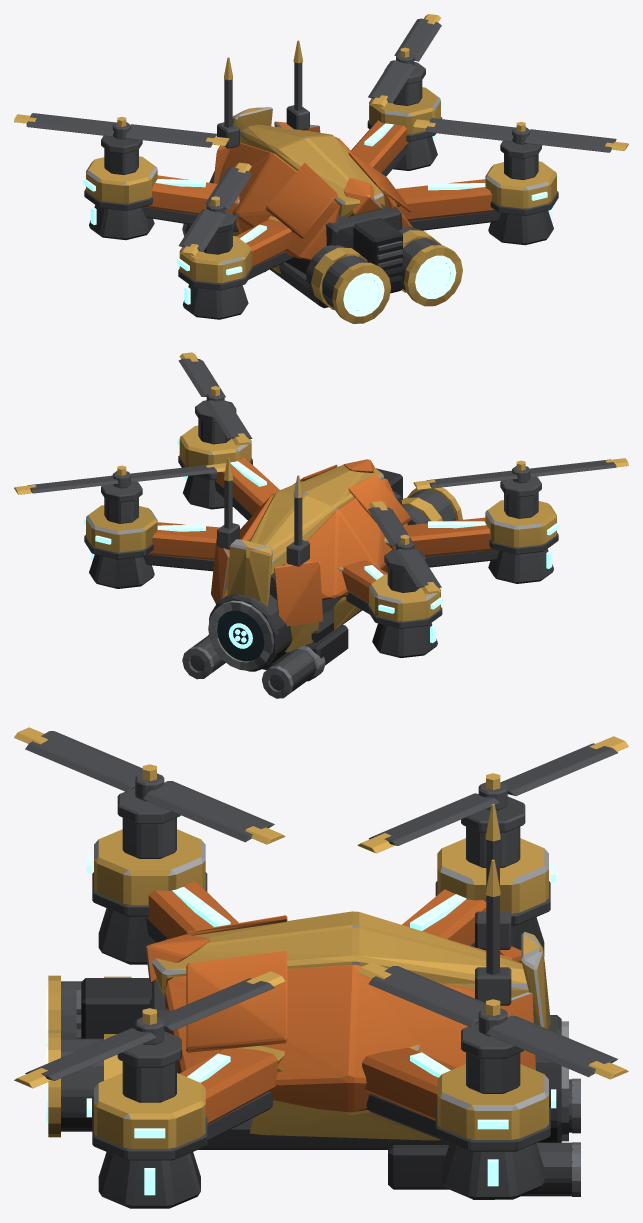
Rendered from heatsinkDroneOrion.988f172d.glb.
3 views of the same model, one above another, from view 1: azimuth 30°, elevation 25°; view 2: azimuth 150°, elevation 25°; view 3: azimuth 270°, elevation 25° (orthographic). The views are drawn at different scales.
Visible parts, largest first — view 1: Orion_body, nozzle_L, nozzle_R, rotor_FL, rotor_RR, flap_L, rotor_RL, rotor_FR, flap_R; view 2: Orion_body, recoil_guns, rotor_FL, rotor_RL, rotor_RR, rotor_FR, nozzle_L, flap_L; view 3: Orion_body, rotor_FR, rotor_RL, flap_R, rotor_RR, rotor_FL, nozzle_R, recoil_guns, nozzle_L.
Part boxes in pixels (<box>): Orion_body: <box>83,40,559,319</box>; nozzle_L: <box>306,245,390,323</box>; nozzle_R: <box>398,226,462,306</box>; rotor_FL: <box>14,113,229,147</box>; rotor_RR: <box>413,118,628,152</box>; flap_L: <box>266,162,337,238</box>; rotor_RL: <box>178,162,252,255</box>; rotor_FR: <box>368,14,441,106</box>; flap_R: <box>348,152,411,212</box>; Orion_body: <box>83,400,559,671</box>; recoil_guns: <box>182,634,325,698</box>; rotor_FL: <box>368,501,441,594</box>; rotor_RL: <box>413,458,628,489</box>; rotor_RR: <box>178,352,252,445</box>; rotor_FR: <box>14,463,226,494</box>; nozzle_L: <box>401,487,462,525</box>; flap_L: <box>348,474,411,525</box>; Orion_body: <box>76,788,568,1208</box>; rotor_FR: <box>357,962,628,1079</box>; rotor_RL: <box>14,727,285,844</box>; flap_R: <box>186,951,287,1052</box>; rotor_RR: <box>14,971,285,1088</box>; rotor_FL: <box>357,736,628,853</box>; nozzle_R: <box>46,1033,122,1137</box>; recoil_guns: <box>472,1078,580,1199</box>; nozzle_L: <box>46,975,131,1046</box>.
Bounding box in the file's own units: 7.23 × 3.12 × 5.24.
